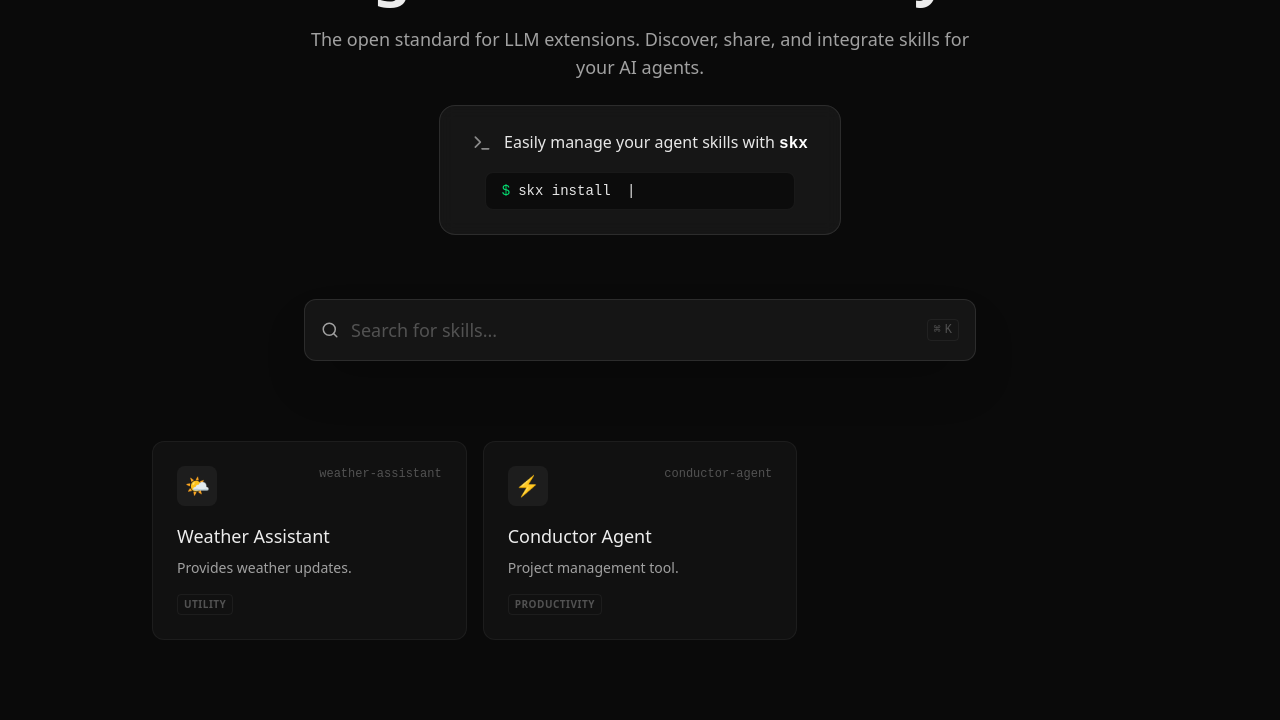
handles GitHub API errors gracefully
(page scrolled)
Click the heading "Weather Assistant": [253, 536] box [177,524,330,548]
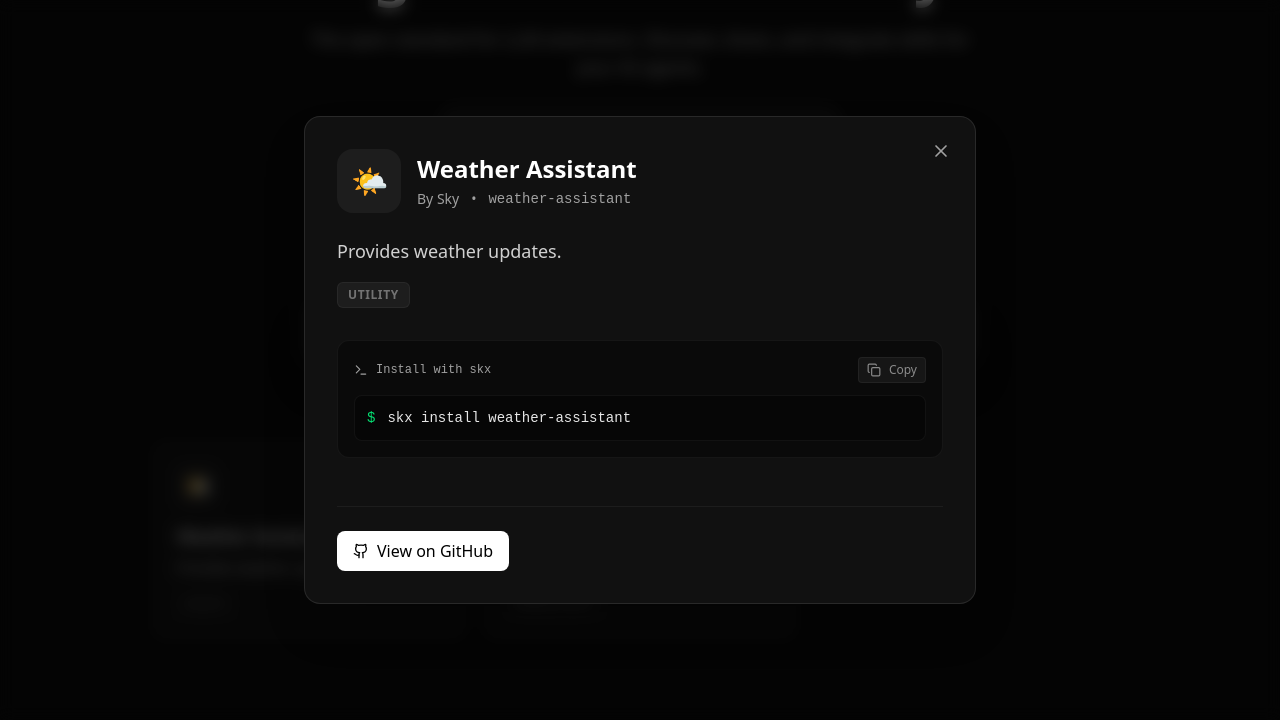
Now the dialog is shown
